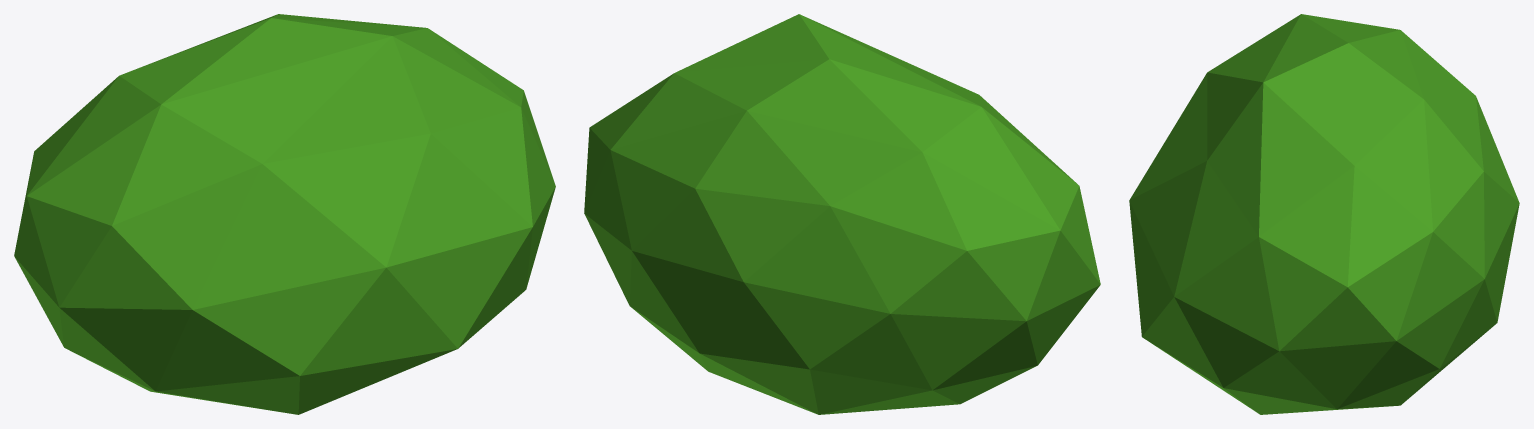
The model's file is buissonblend.dae.
3 views of the same model, side by side, from view 1: azimuth 30°, elevation 25°; view 2: azimuth 150°, elevation 25°; view 3: azimuth 270°, elevation 25° (orthographic). The views are drawn at different scales.
Parts seen in each view (by area): view 1: Icosphere; view 2: Icosphere; view 3: Icosphere.
Part boxes in pixels (x1,y1,x2,y2): Icosphere: [14, 14, 555, 414]; Icosphere: [584, 14, 1100, 414]; Icosphere: [1129, 14, 1519, 414].
Size of the model in its own units: 5.07 by 3.59 by 3.48.
